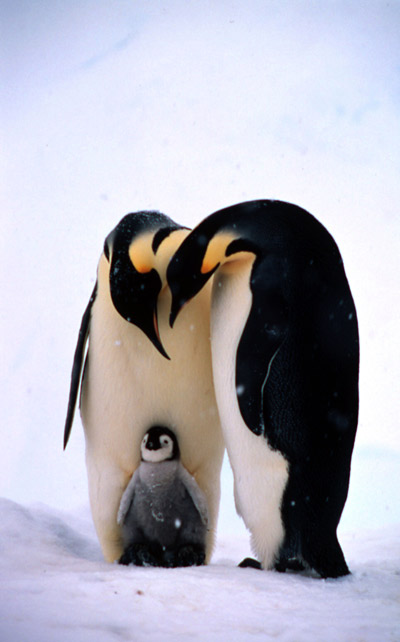penguin: (172, 199, 361, 580), (67, 211, 228, 577), (122, 424, 216, 567)
